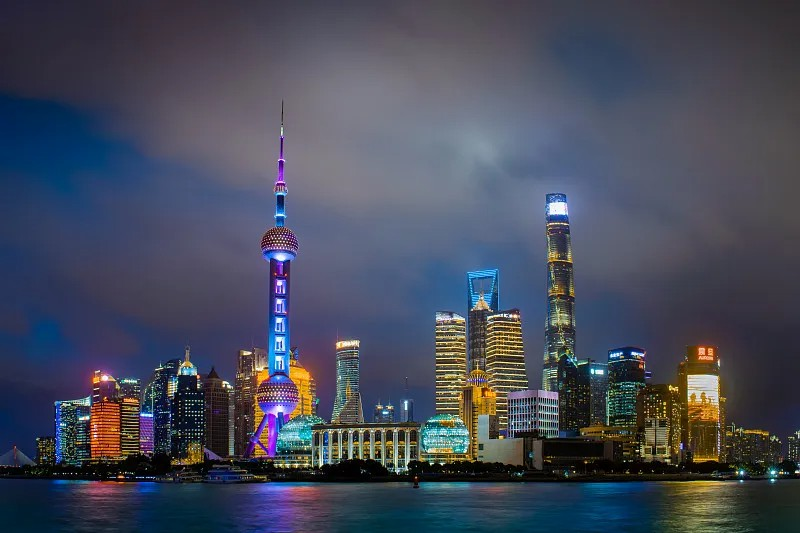Oriental: (246, 99, 298, 456)
